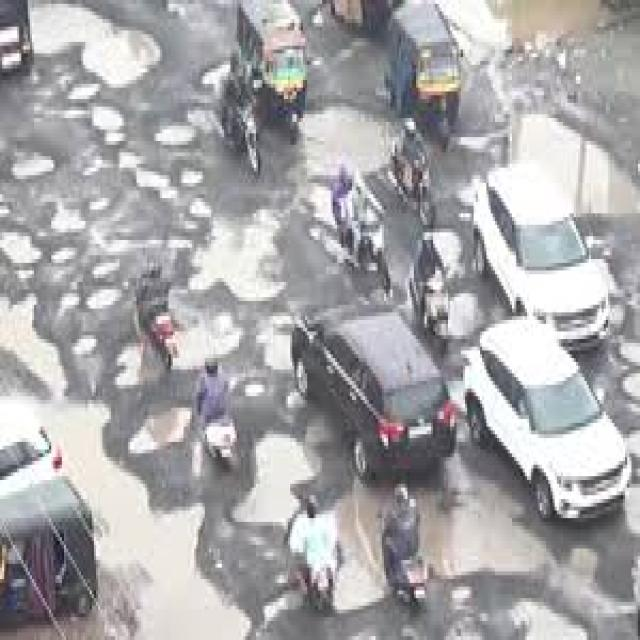Pothole: (0, 400, 250, 640), (134, 168, 282, 301), (514, 114, 638, 213), (303, 110, 388, 225), (30, 4, 145, 88), (431, 495, 548, 575), (235, 434, 307, 526), (333, 484, 384, 613), (0, 320, 60, 392), (512, 0, 599, 38), (173, 324, 239, 370), (130, 411, 186, 453), (527, 610, 587, 640), (117, 343, 154, 389), (79, 278, 122, 312), (0, 232, 38, 267), (9, 156, 51, 183), (156, 118, 192, 145)
